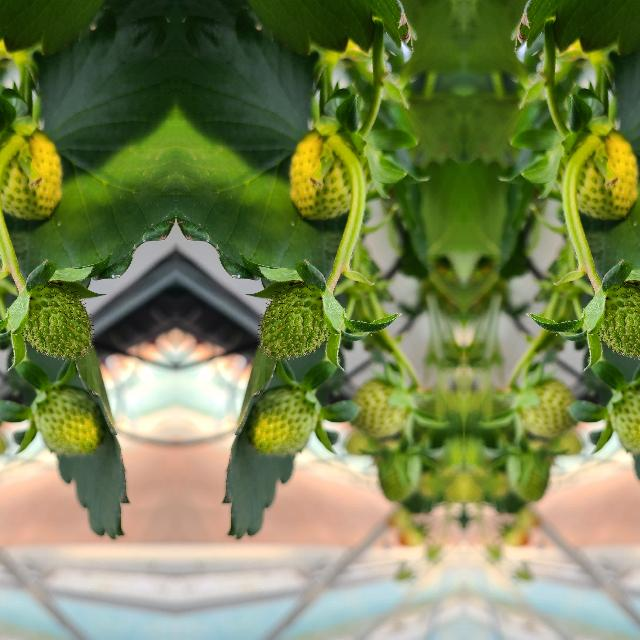Health_25: (562, 126, 636, 226), (291, 126, 364, 226), (0, 126, 59, 226), (246, 385, 318, 465), (32, 385, 104, 465), (260, 286, 326, 356), (24, 286, 90, 356), (353, 374, 409, 440), (517, 374, 573, 440), (600, 285, 640, 356), (607, 385, 640, 465)
